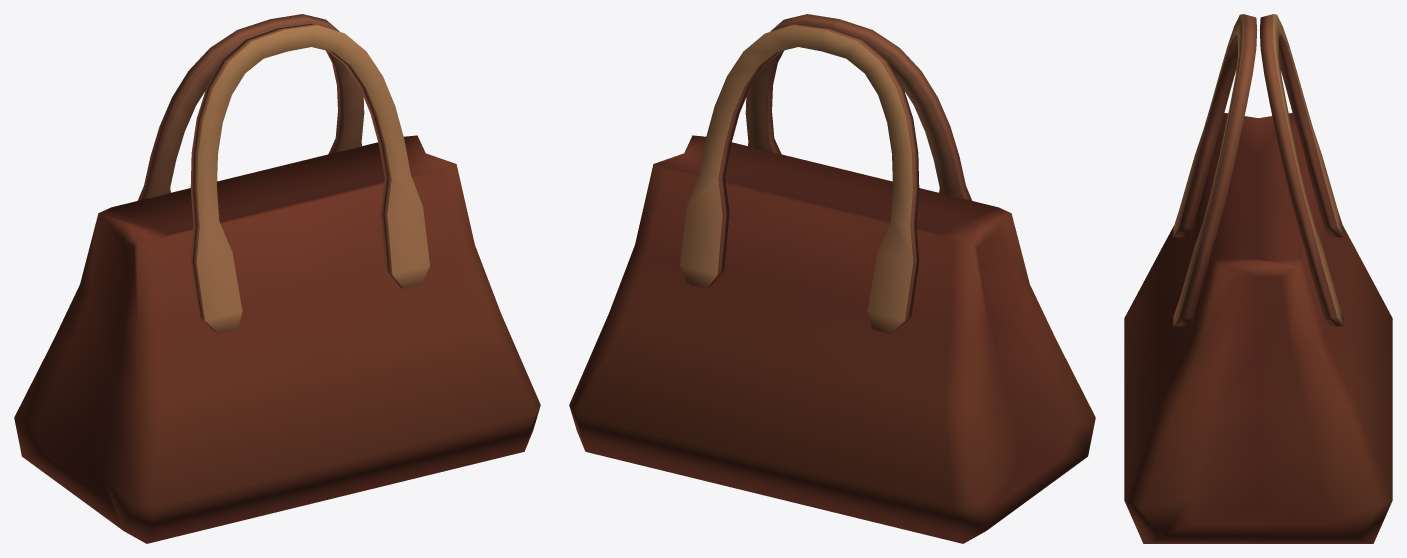
Rendered from human-clothing-handbag_v1.fbx.
The picture shows the model from 3 angles, left to right: view 1: azimuth 30°, elevation 25°; view 2: azimuth 150°, elevation 25°; view 3: azimuth 270°, elevation 25°; orthographic projection.
Parts seen in each view (by area): view 1: Handbag; view 2: Handbag; view 3: Handbag.
Boxes of the visible parts, box(x1,y1,x2,y2) form: Handbag: box(14, 14, 540, 543); Handbag: box(569, 14, 1095, 543); Handbag: box(1124, 14, 1392, 543).
Size of the model in its own units: 0.35 by 0.3458 by 0.1976.
